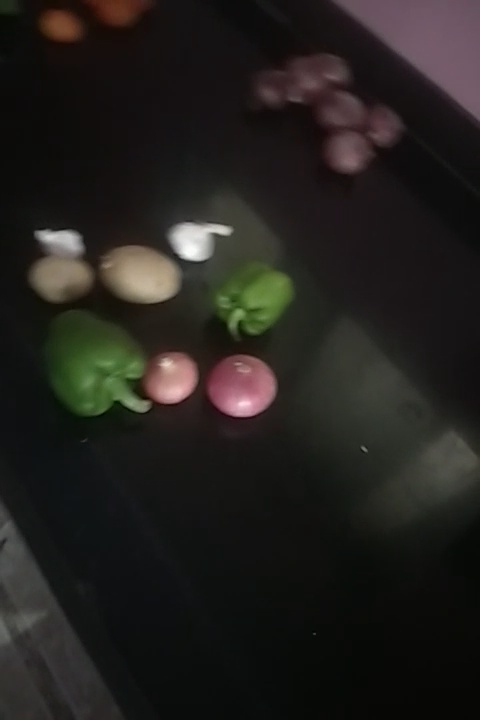capsicum: (42, 312, 156, 429), (211, 269, 304, 338)
onion: (211, 356, 272, 419), (167, 216, 237, 270), (146, 351, 194, 413), (327, 125, 371, 184), (26, 219, 81, 266), (314, 81, 359, 135), (256, 65, 300, 117), (364, 100, 403, 150), (304, 50, 351, 85)
potato: (99, 235, 185, 301), (33, 253, 104, 312)
tomato: (31, 11, 91, 47), (91, 2, 146, 30)
